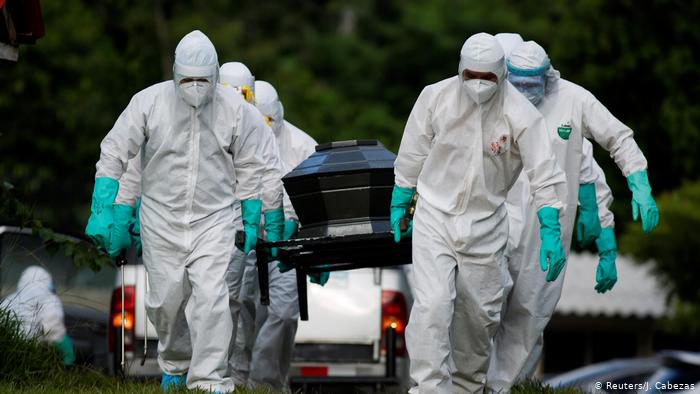Coverall: (408, 70, 526, 394), (125, 81, 244, 394)
Gloves: (535, 208, 567, 285), (628, 170, 662, 237), (83, 179, 116, 242), (572, 177, 600, 250), (594, 228, 620, 299), (387, 184, 411, 246), (108, 204, 133, 257), (240, 200, 263, 257), (264, 210, 282, 259)
with_mask: (464, 70, 498, 107), (180, 74, 214, 108)
